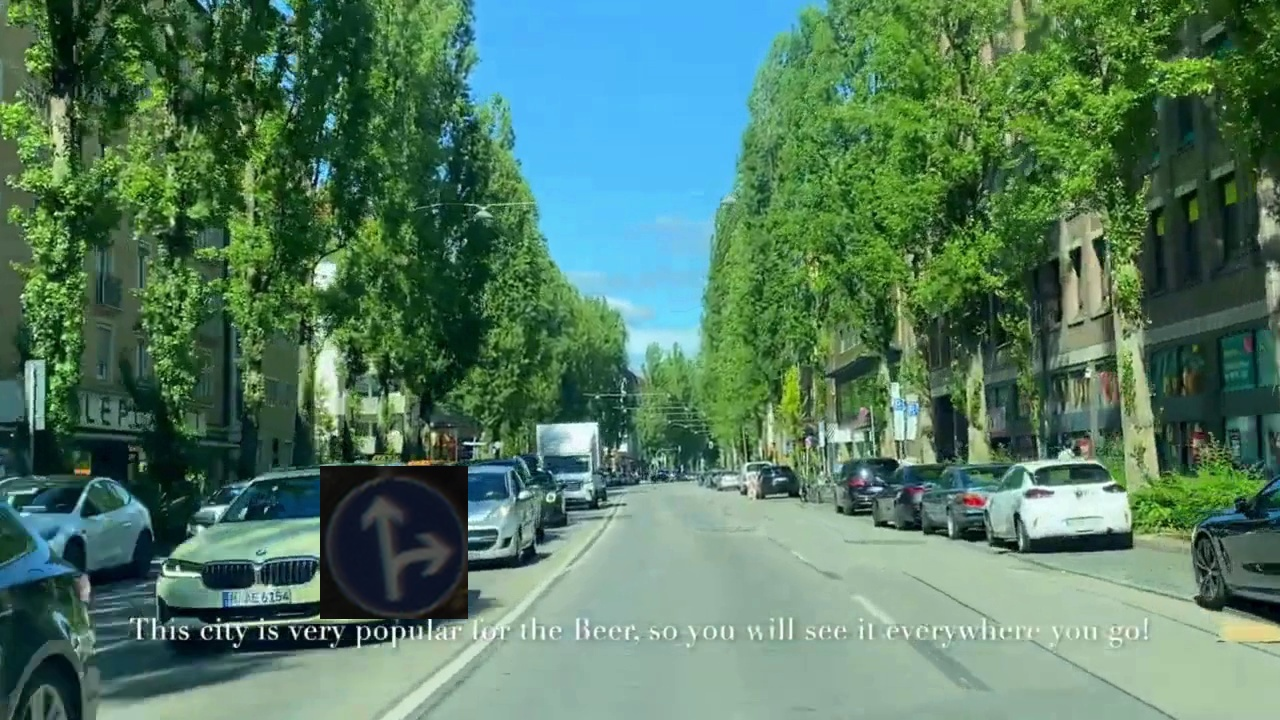Straight/right: (320, 466, 468, 619)
